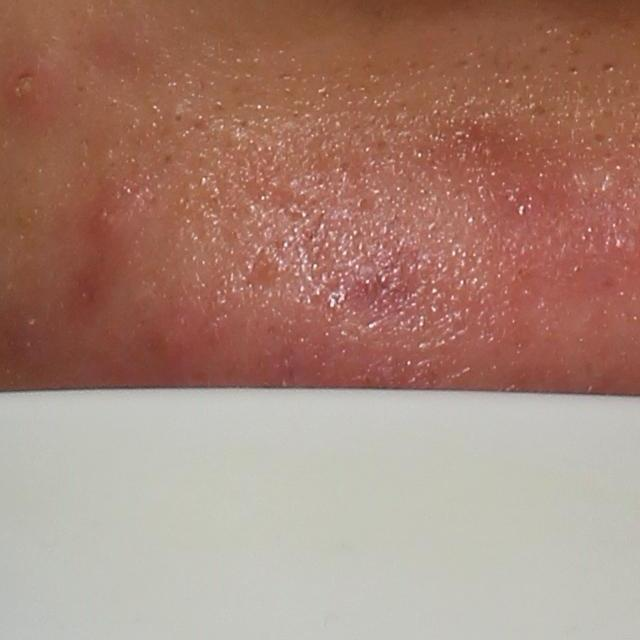comedo: (527, 101, 546, 122), (588, 129, 608, 147), (167, 109, 186, 127)
